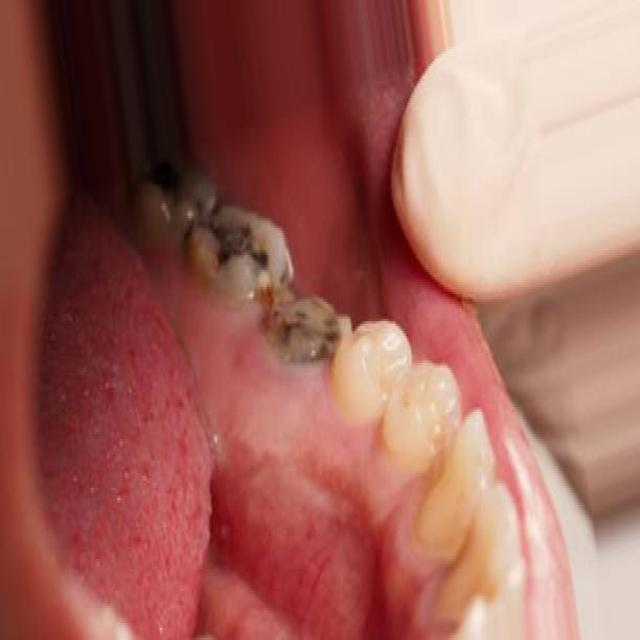caries: (187, 200, 289, 303), (258, 272, 354, 378)
